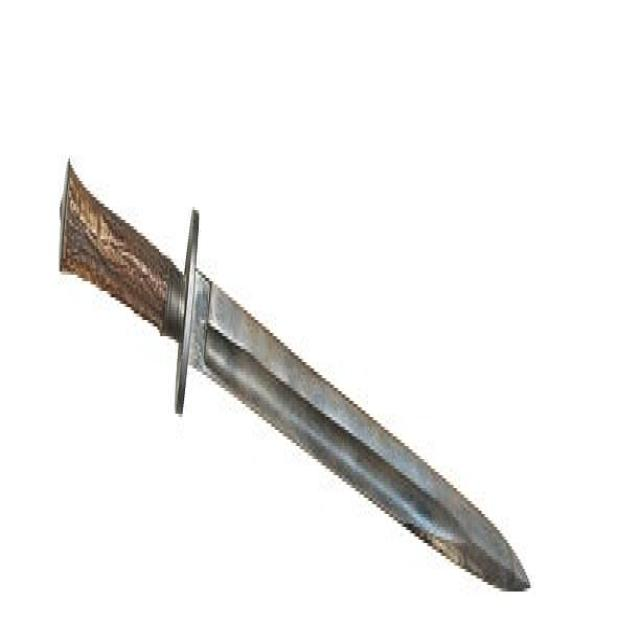knife: (52, 148, 535, 606)
